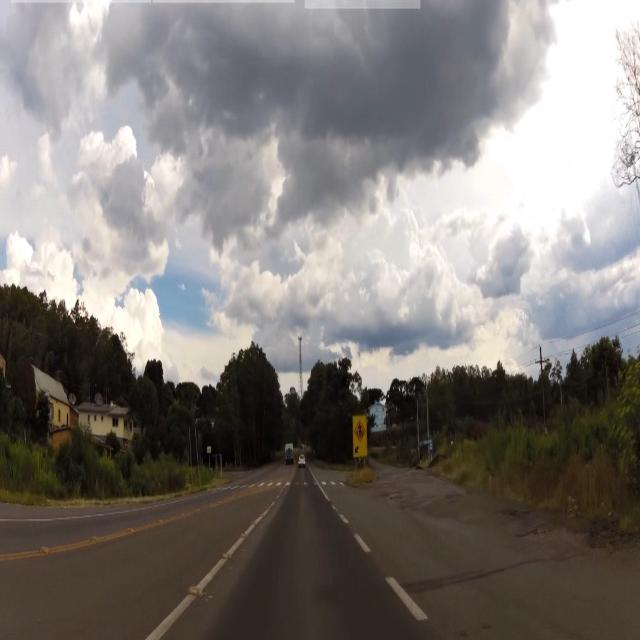A-32b: (354, 418, 367, 445)
